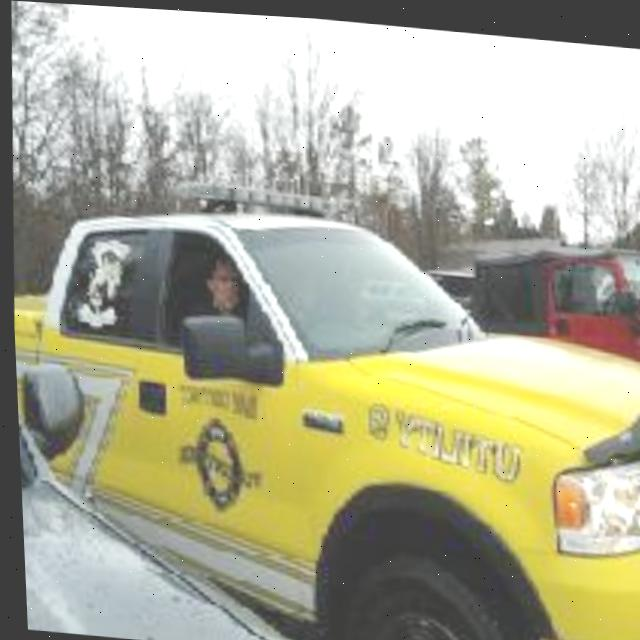emergency: (6, 159, 640, 640)
